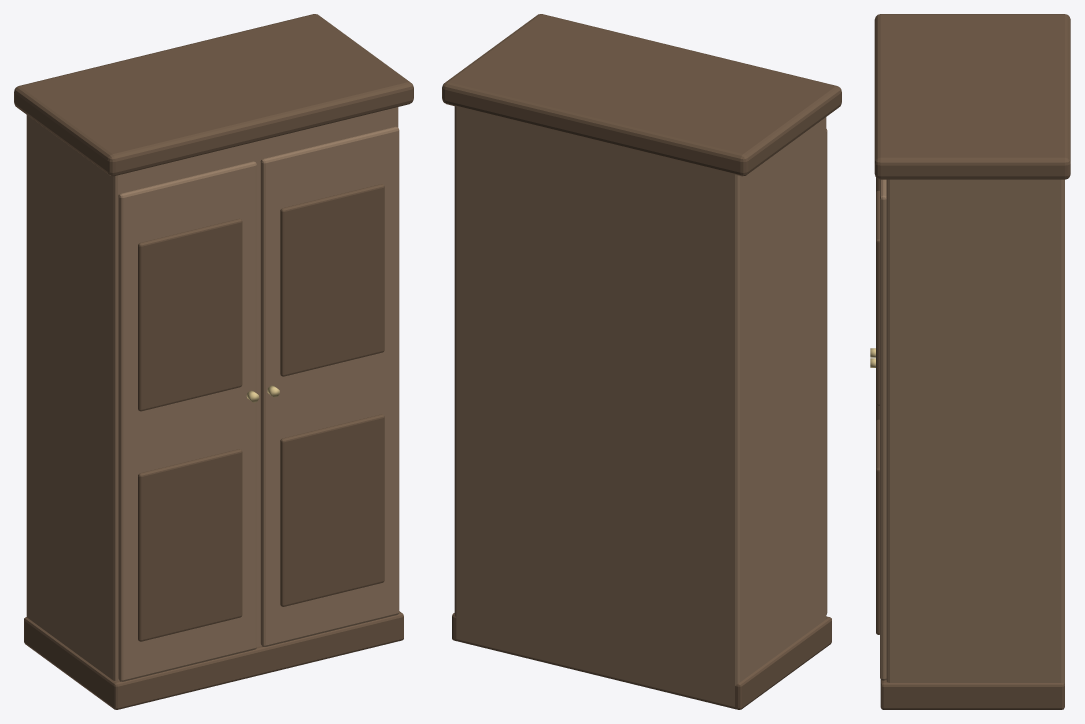
File: wardrobe.glb
3 views of the same model, side by side, from view 1: azimuth 30°, elevation 25°; view 2: azimuth 150°, elevation 25°; view 3: azimuth 270°, elevation 25° (orthographic).
Parts seen in each view (by area): view 1: body, crown, door.001, door, panel, panel.003, panel.002, panel.001, plinth; view 2: body, crown, plinth, door; view 3: body, crown, plinth, door.001, panel.002, panel.003.
Boxes of the visible parts, bbox=[...] form: body: bbox=[26, 107, 398, 681]; crown: bbox=[14, 14, 413, 176]; door.001: bbox=[260, 126, 399, 646]; door: bbox=[118, 161, 256, 681]; panel: bbox=[138, 449, 242, 641]; panel.003: bbox=[280, 184, 384, 376]; panel.002: bbox=[280, 414, 384, 606]; panel.001: bbox=[138, 218, 242, 411]; plinth: bbox=[24, 611, 403, 709]; body: bbox=[454, 106, 826, 706]; crown: bbox=[442, 14, 841, 176]; plinth: bbox=[452, 613, 831, 709]; door: bbox=[826, 129, 827, 614]; body: bbox=[886, 179, 1064, 683]; crown: bbox=[874, 14, 1070, 179]; plinth: bbox=[880, 680, 1064, 709]; door.001: bbox=[880, 179, 886, 680]; panel.002: bbox=[876, 419, 879, 634]; panel.003: bbox=[876, 190, 879, 405].
Bounding box in the file's own units: 1.18 × 2.06 × 0.675.
